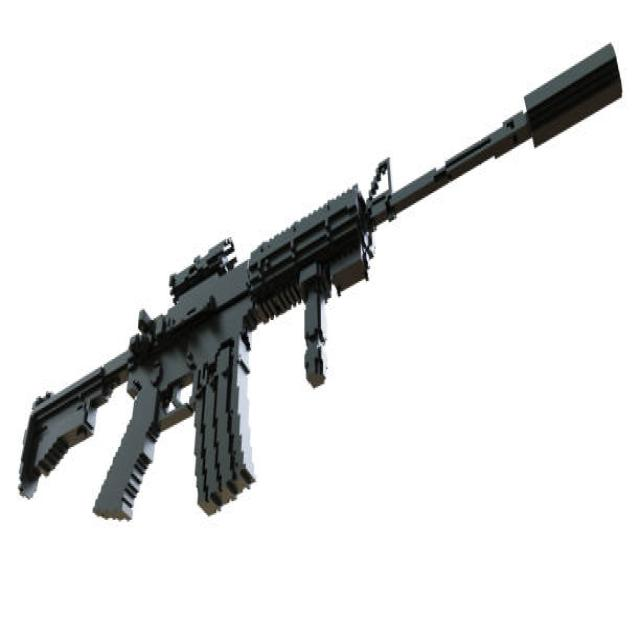rifle: (16, 35, 626, 532)
